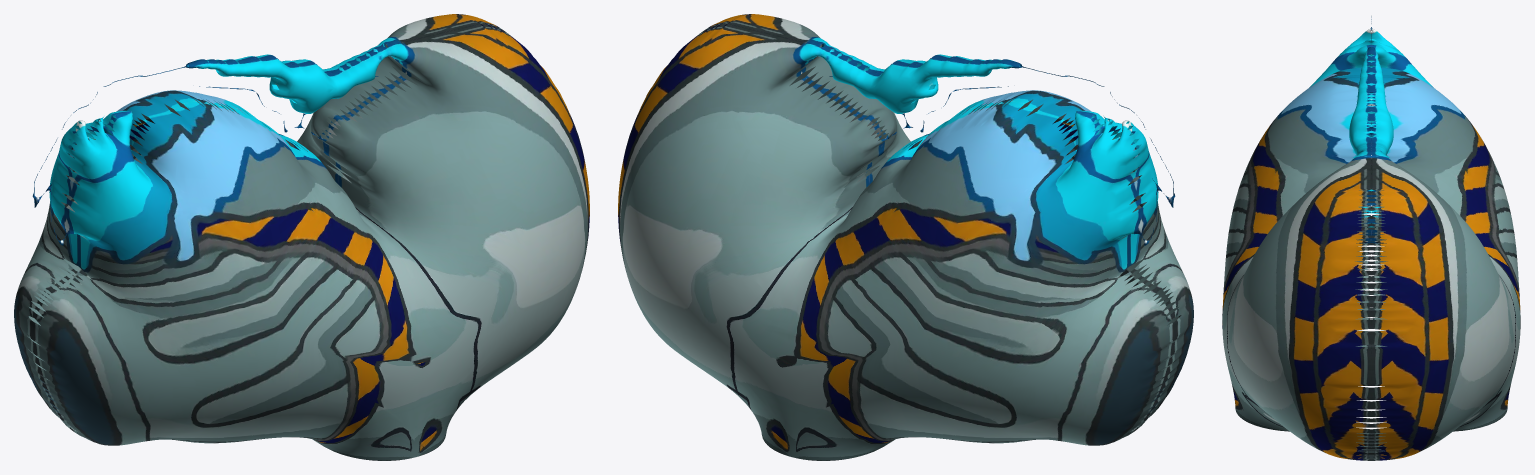
Rendered from elbow_conduit.glb.
3 views of the same model, side by side, from view 1: azimuth 30°, elevation 25°; view 2: azimuth 150°, elevation 25°; view 3: azimuth 270°, elevation 25° (orthographic). The views are drawn at different scales.
Visible parts, largest first — view 1: elbow_conduit; view 2: elbow_conduit; view 3: elbow_conduit.
Boxes of the visible parts, <box> form: elbow_conduit: <box>14,14,589,460</box>; elbow_conduit: <box>618,14,1193,460</box>; elbow_conduit: <box>1222,16,1520,460</box>.
Bounding box in the file's own units: 0.989 × 0.6548 × 0.5814.
Materials: 1 (1 with a texture image).
